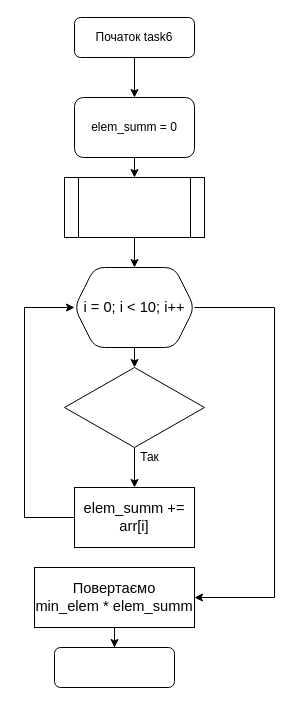
The diagram is 300 pixels wide and 705 high, and some of its shapes have lost their labels. The centre of each missing label's shape, as x and y in pixels:
"arr[i] > 0" goes at (134,407).
"min_elem = min(arr)" goes at (134,207).
"Кінець task6" goes at (114,667).
